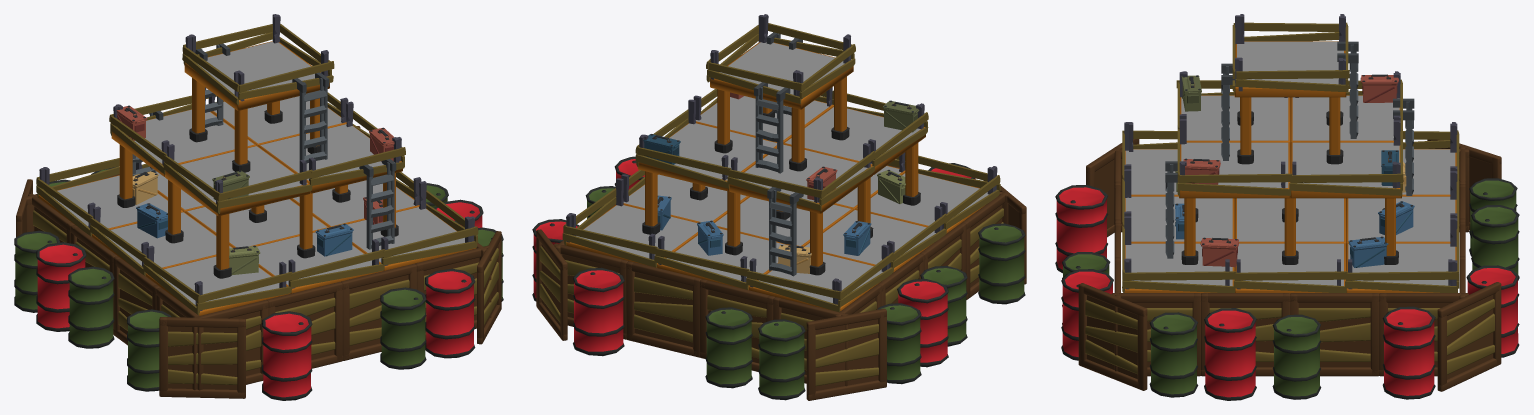
File: NewSmallBunker.fbx
The picture shows the model from 3 angles, left to right: view 1: azimuth 30°, elevation 25°; view 2: azimuth 150°, elevation 25°; view 3: azimuth 270°, elevation 25°; orthographic projection. The views are drawn at different scales.
Visible parts, largest first — view 1: SmallBunker.288; view 2: SmallBunker.288; view 3: SmallBunker.288.
Boxes of the visible parts, left/top/right/bottom form: SmallBunker.288: left=14, top=14, right=503, bottom=400; SmallBunker.288: left=532, top=14, right=1026, bottom=400; SmallBunker.288: left=1055, top=14, right=1519, bottom=400.
Bounding box in the file's own units: 12.47 × 7.96 × 12.51.
10 materials, 1 textured.
